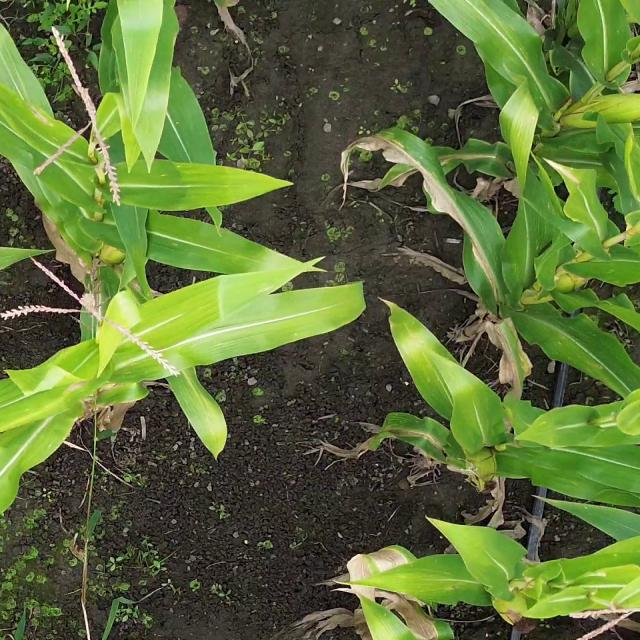gray-leaf-spot: (478, 12, 578, 150)
northern-leaf-blight: (348, 128, 511, 330), (25, 96, 120, 182), (483, 308, 553, 413), (353, 418, 467, 463), (549, 161, 614, 222)
southern-leaf-blight: (547, 313, 635, 388), (146, 116, 207, 188)
